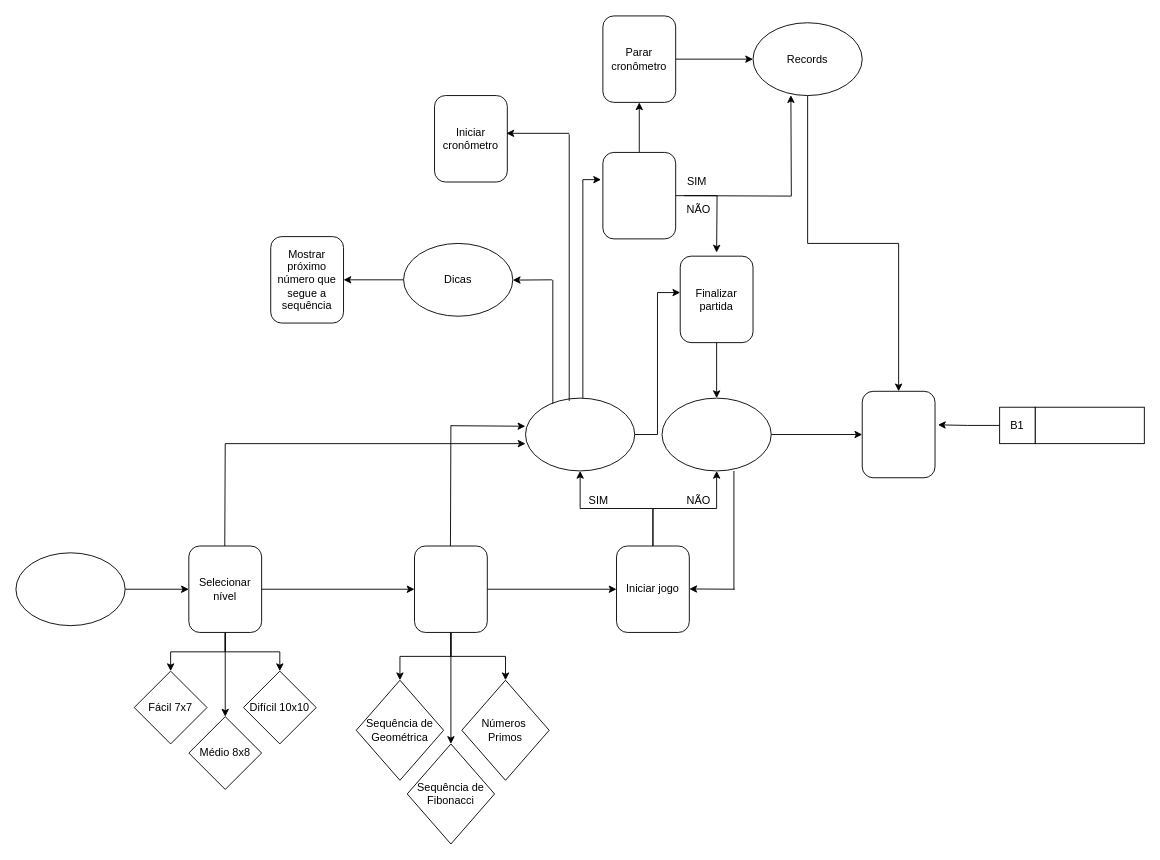
The diagram is 1160 pixels wide and 860 high, and some of its shapes have lost their labels. Each missing label, with the centre of its shape:
Checar vitória: the point at 639,195
Dados das melhores classificações: the point at 1089,425
Exibir classificação: the point at 898,434
Grid: the point at 580,434
Jogador: the point at 70,589
Menu principal: the point at 716,434
Selecionar modalidade: the point at 450,588
